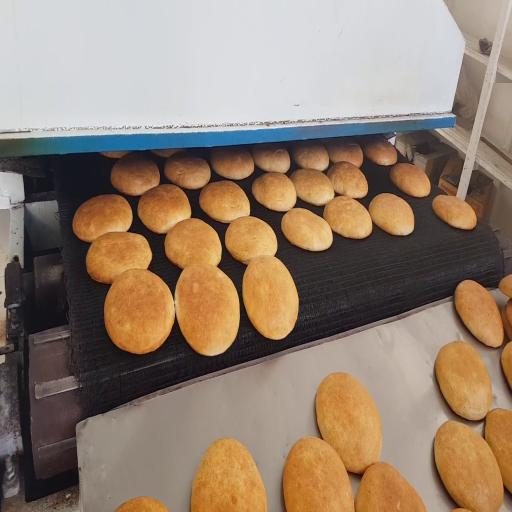bread: (316, 373, 382, 474), (434, 421, 503, 511), (104, 269, 174, 354), (175, 264, 239, 356), (191, 439, 267, 511), (283, 437, 354, 511), (243, 256, 298, 339), (435, 341, 492, 420), (355, 462, 426, 511), (86, 232, 152, 283), (455, 280, 503, 347), (73, 195, 132, 242), (165, 219, 221, 268), (138, 184, 191, 233), (225, 217, 277, 264), (485, 409, 511, 492), (282, 208, 332, 251), (199, 181, 250, 223), (324, 196, 372, 239), (111, 154, 160, 196), (369, 193, 414, 235), (252, 172, 296, 211), (165, 153, 210, 189), (290, 169, 334, 205), (327, 162, 368, 198), (433, 195, 476, 229), (211, 147, 254, 179), (390, 164, 430, 197), (292, 141, 329, 171), (252, 144, 290, 173), (326, 139, 363, 167), (364, 137, 397, 166), (115, 497, 168, 511), (501, 343, 511, 388), (501, 305, 511, 340), (498, 274, 512, 298), (151, 149, 184, 158), (100, 151, 130, 159), (505, 300, 511, 324), (453, 509, 469, 511)
